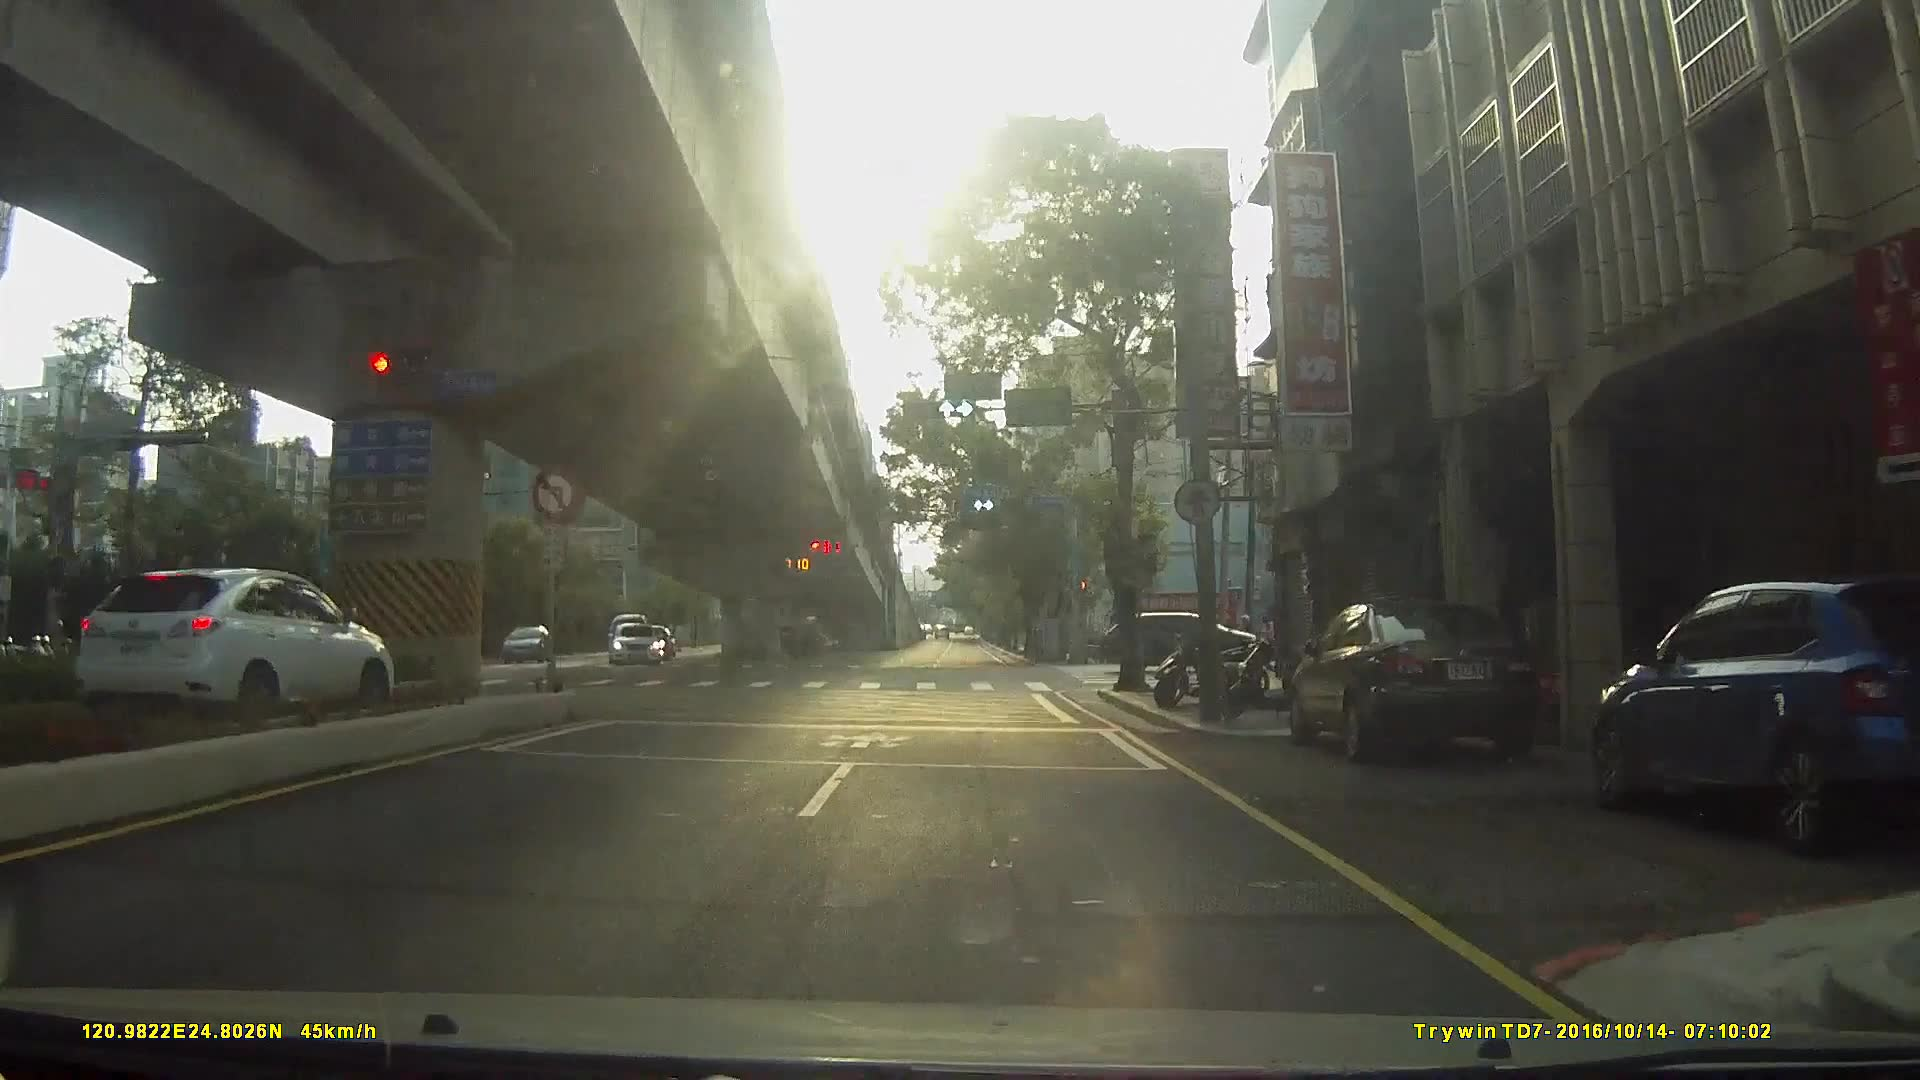vehicle: (1584, 571, 1920, 853), (65, 558, 396, 728), (1298, 599, 1557, 771), (1102, 611, 1276, 676), (761, 618, 824, 659), (607, 622, 659, 666), (496, 625, 551, 666)
